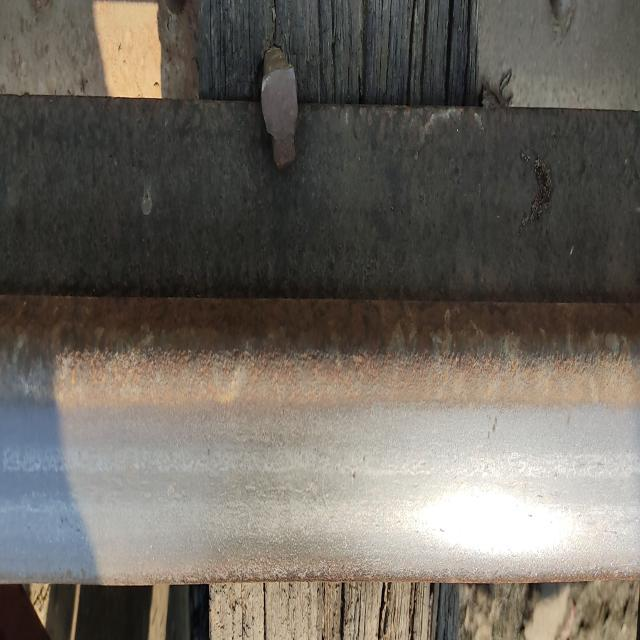Good Fasteners: (261, 46, 298, 168)
